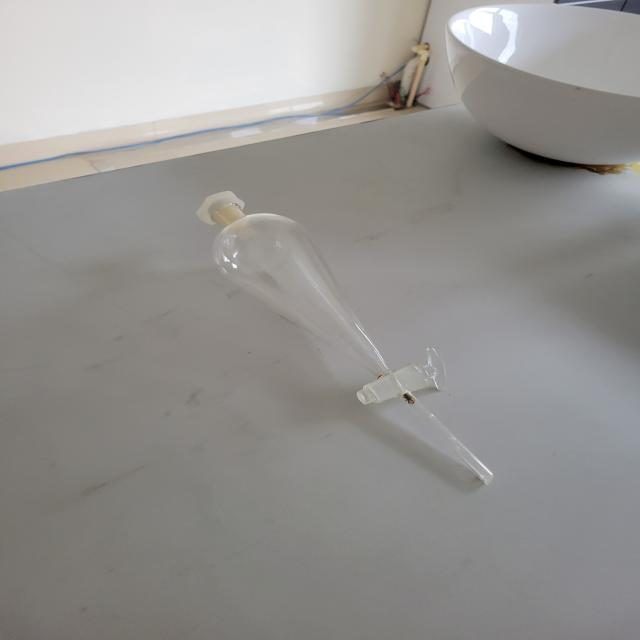Separating_Funnel: (182, 160, 524, 540)
